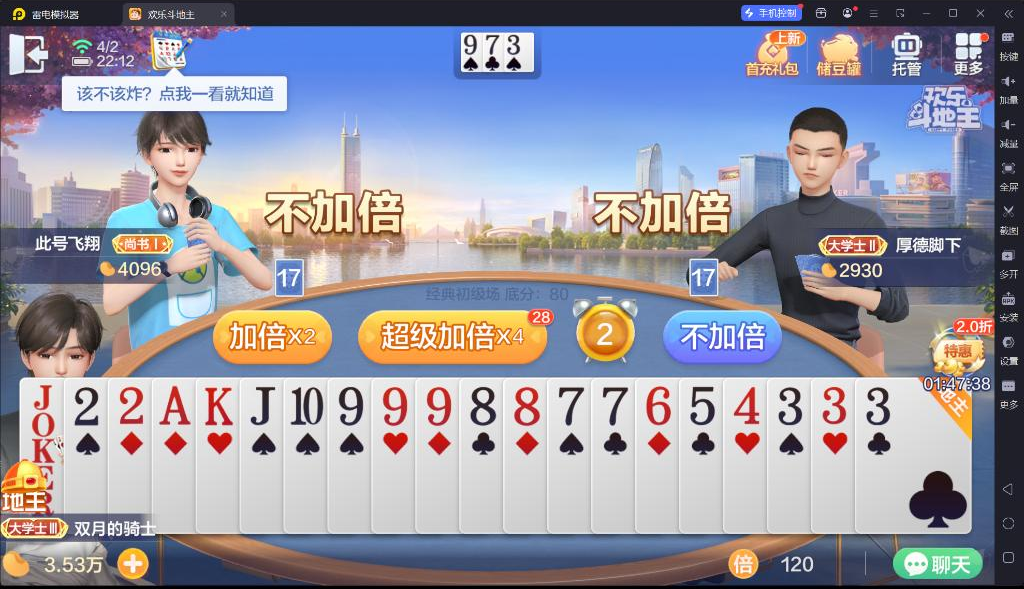A: (157, 381, 192, 427)
J: (244, 381, 278, 426)
JOKER: (28, 383, 60, 468)
K: (201, 382, 235, 428)
eight: (510, 384, 542, 428), (467, 384, 497, 428)
five: (687, 383, 717, 426)
four: (730, 382, 762, 425)
nine: (422, 384, 454, 428), (333, 385, 365, 428), (378, 384, 408, 428)
seven: (554, 384, 584, 428), (599, 385, 629, 428), (462, 34, 479, 55)
six: (643, 383, 673, 426)
ten: (288, 385, 324, 428)
three: (774, 384, 804, 428), (862, 384, 891, 428), (819, 383, 849, 425), (505, 34, 522, 56), (484, 33, 500, 56)
two: (70, 383, 102, 429), (115, 381, 147, 426)
